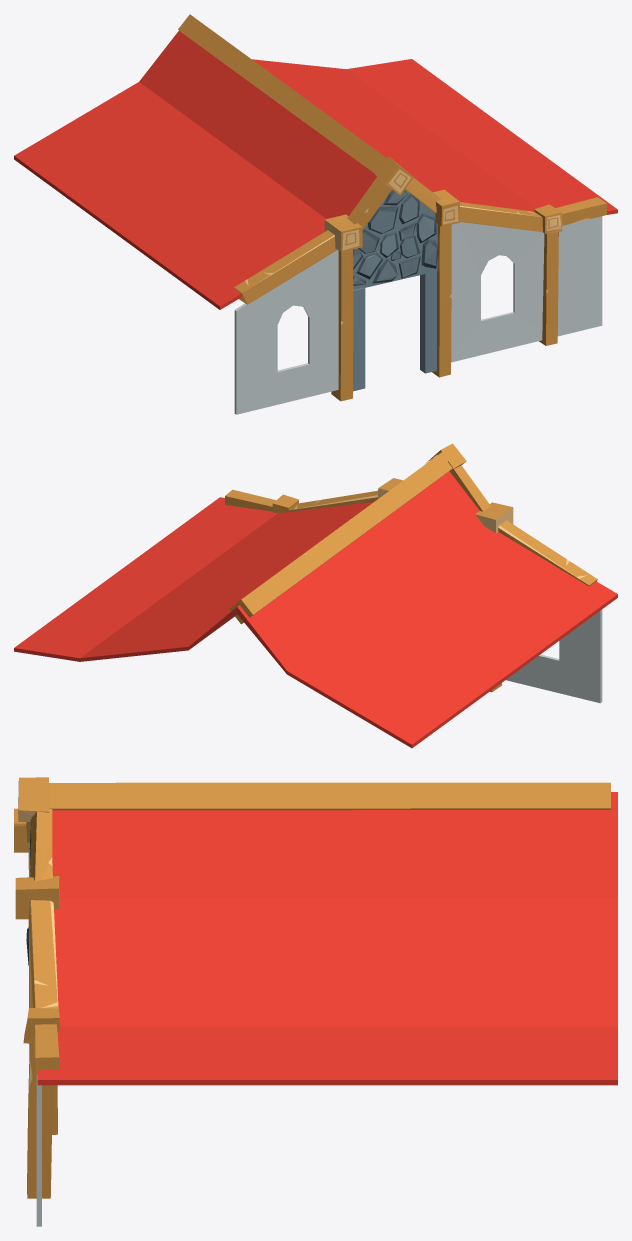
The model's file is wizard_house_top.fbx.
The picture shows the model from 3 angles, top to bottom: view 1: azimuth 30°, elevation 25°; view 2: azimuth 150°, elevation 25°; view 3: azimuth 270°, elevation 25°; orthographic projection. The views are drawn at different scales.
Parts seen in each view (by area): view 1: roof_front.002; view 2: roof_front.002; view 3: roof_front.002.
Part boxes in pixels (x1,y1,x2,y2): roof_front.002: (14, 14, 617, 414); roof_front.002: (14, 443, 617, 748); roof_front.002: (14, 777, 617, 1226).
Bounding box in the file's own units: 2058 × 1919 × 1121.
